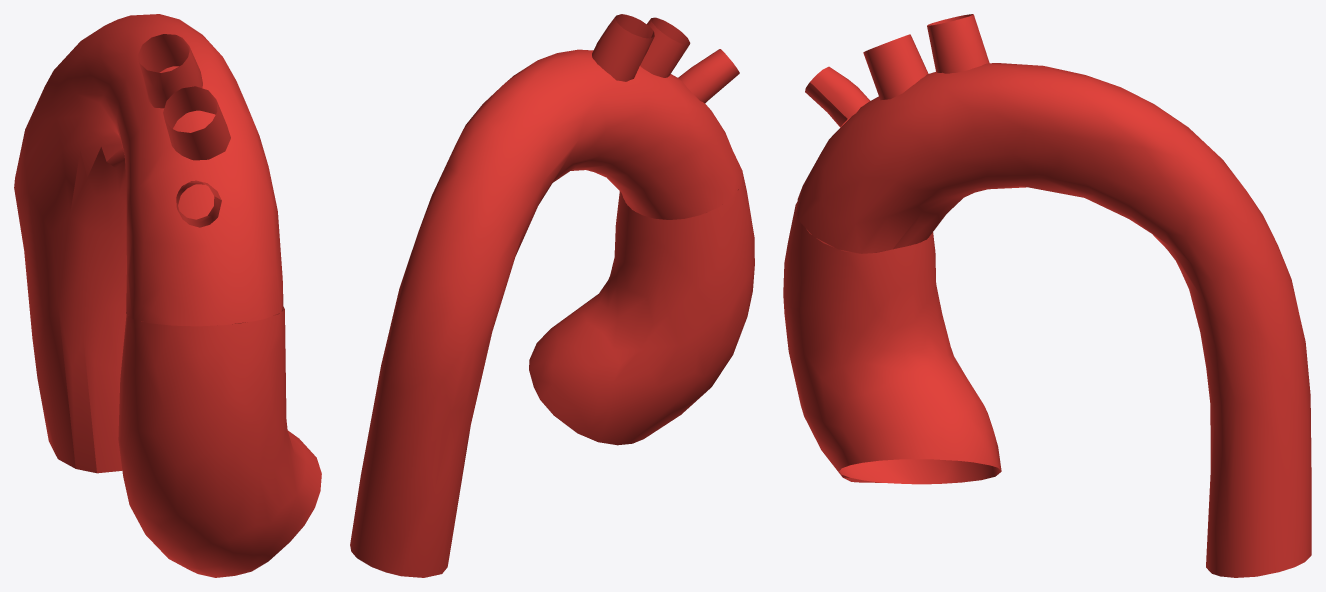
Rendered from arota.gltf.
3 views of the same model, side by side, from view 1: azimuth 30°, elevation 25°; view 2: azimuth 150°, elevation 25°; view 3: azimuth 270°, elevation 25° (orthographic). The views are drawn at different scales.
Visible parts, largest first — view 1: a1.027; view 2: a1.027; view 3: a1.027.
Boxes of the visible parts, bbox=[...] form: a1.027: bbox=[14, 14, 321, 577]; a1.027: bbox=[350, 14, 754, 577]; a1.027: bbox=[783, 14, 1311, 577].
Bounding box in the file's own units: 1.47 × 3.16 × 2.97.
